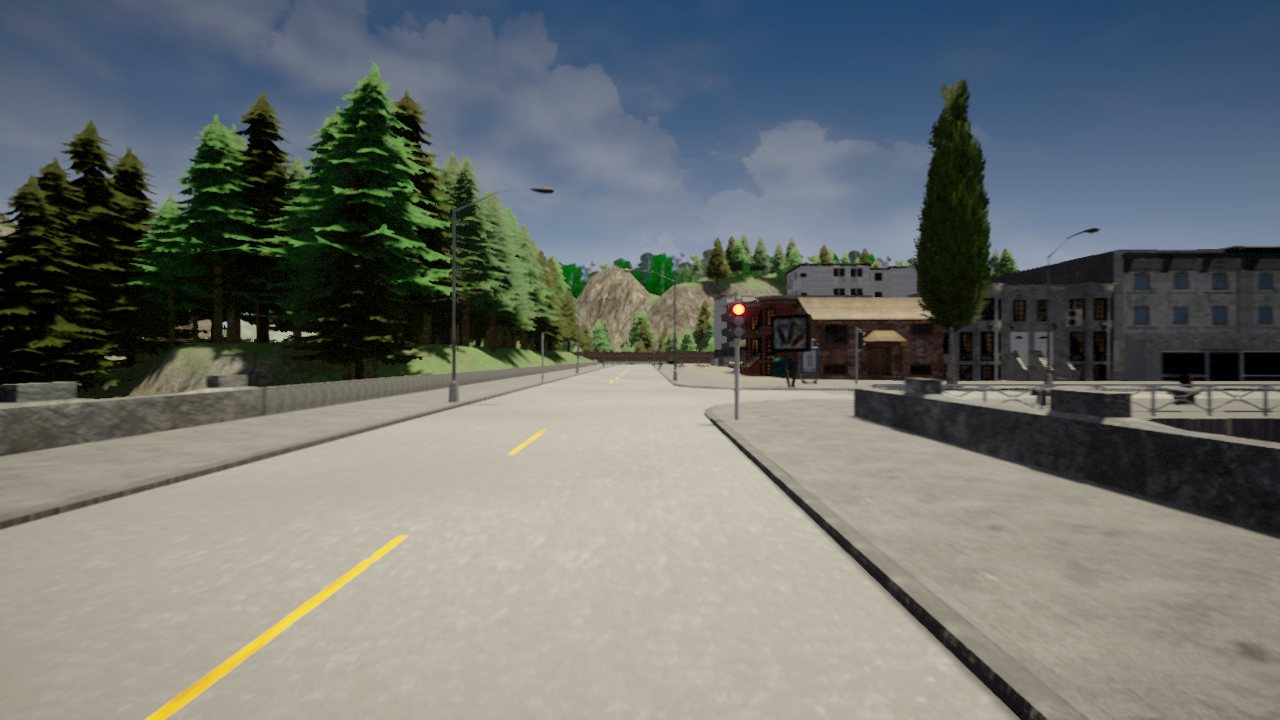red: (729, 302, 748, 342)
